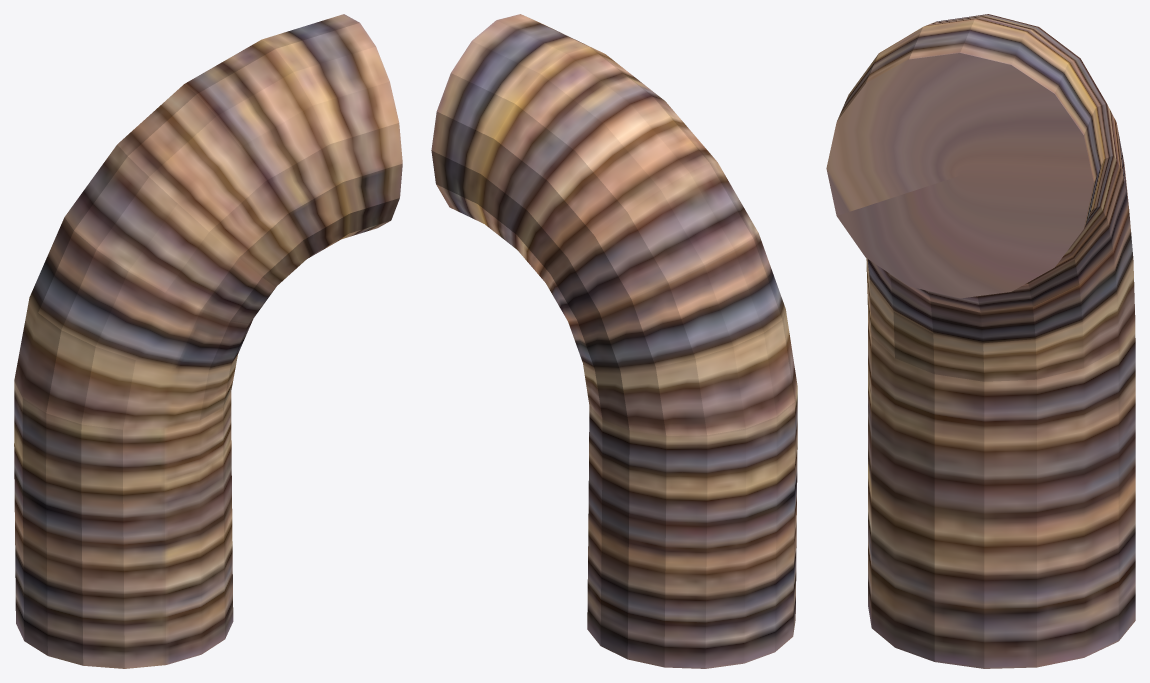
The model's file is ventpipe.glb.
3 renders of one model, left to right at view 1: azimuth 30°, elevation 25°; view 2: azimuth 150°, elevation 25°; view 3: azimuth 270°, elevation 25°, orthographic. The views are drawn at different scales.
Parts seen in each view (by area): view 1: Cylinder001; view 2: Cylinder001; view 3: Cylinder001.
Part boxes in pixels (x1,y1,x2,y2): Cylinder001: (14, 14, 402, 668); Cylinder001: (431, 14, 797, 668); Cylinder001: (826, 14, 1135, 668).
Bounding box in the file's own units: 0.5956 × 0.9747 × 0.3932.
1 material, 1 textured.
